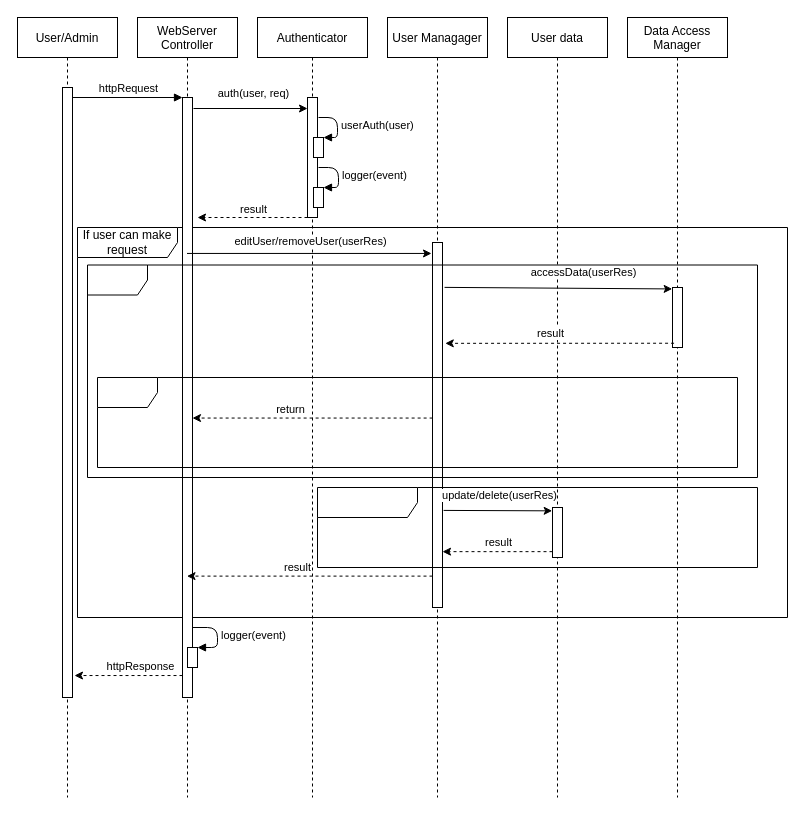
Image size: 805x815. Some labels were removed from this diagram. Each missing label, with the box of its shape:
if access denied: (96, 376, 738, 468)
if user to remove exists: (316, 486, 758, 568)
user case: (86, 264, 758, 478)
